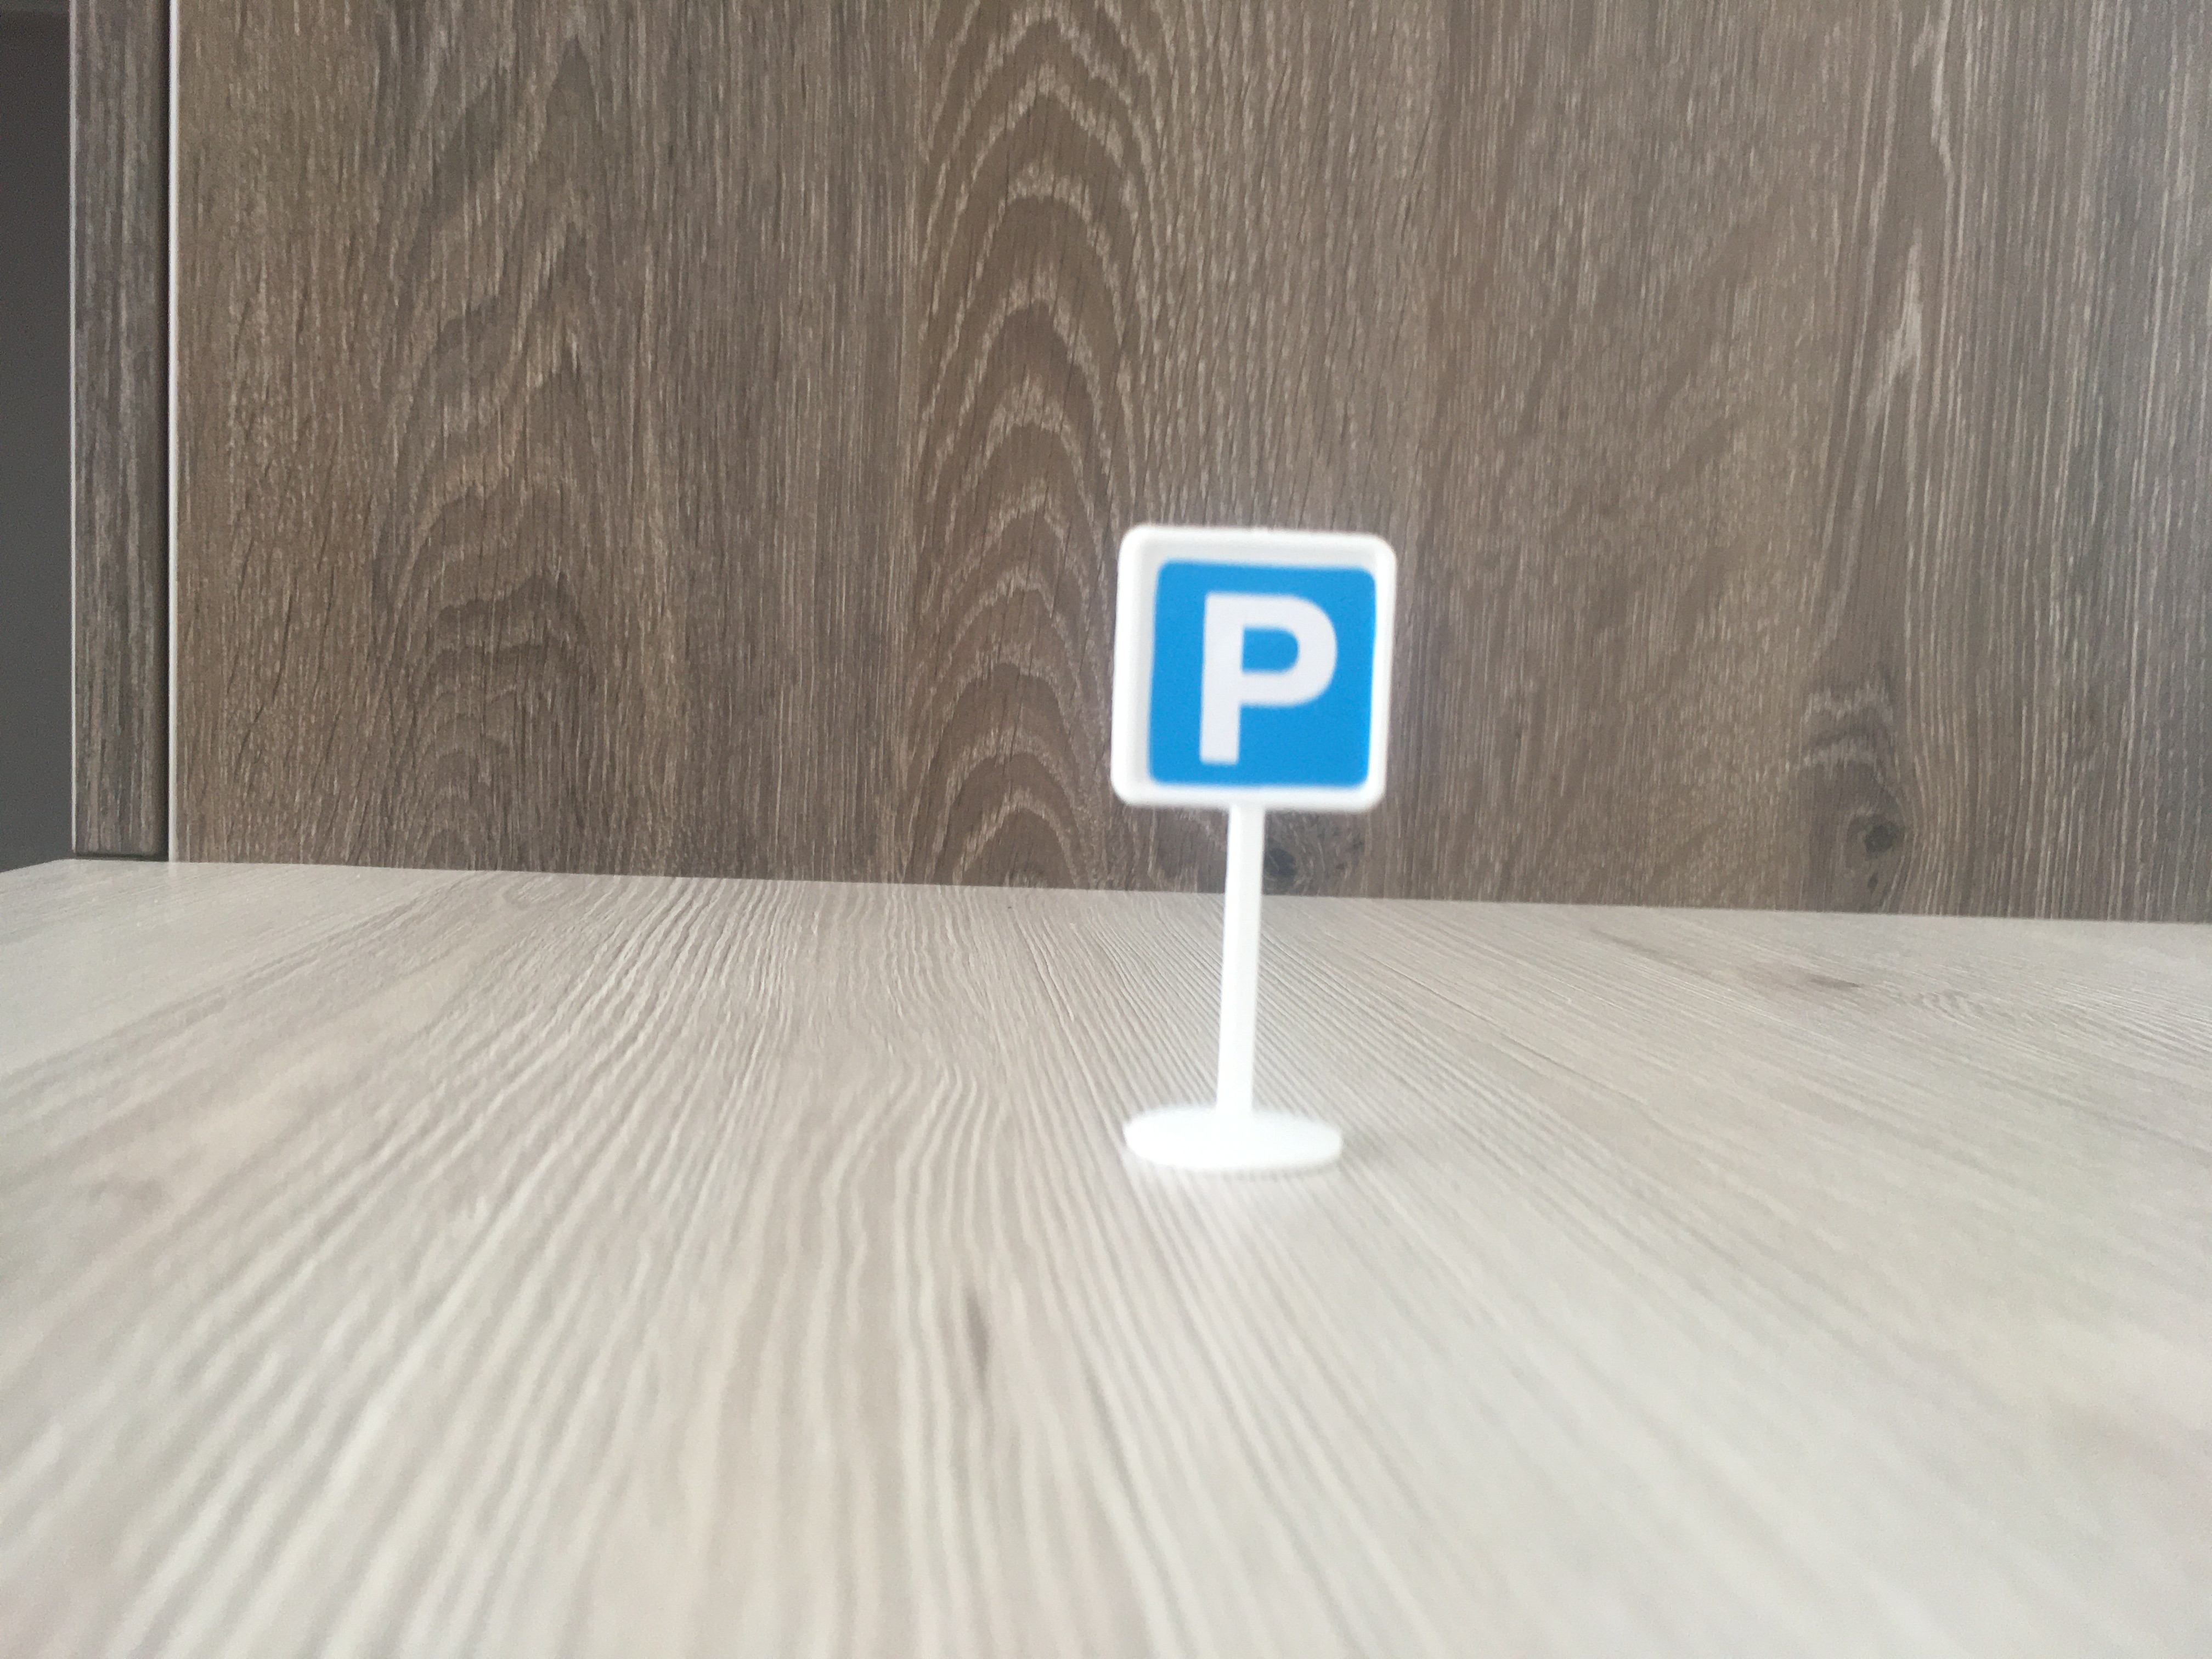parking: (1116, 523, 1386, 810)
